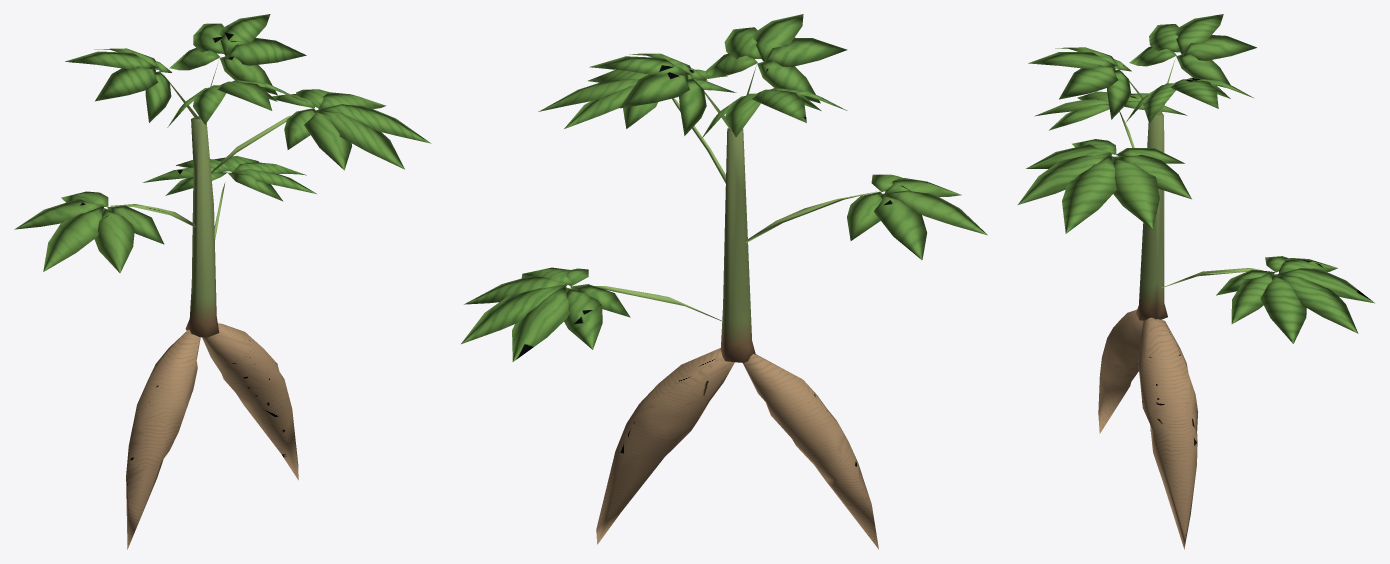
File: Yuca.fbx
3 renders of one model, left to right at view 1: azimuth 30°, elevation 25°; view 2: azimuth 150°, elevation 25°; view 3: azimuth 270°, elevation 25°, orthographic. The views are drawn at different scales.
Parts seen in each view (by area): view 1: Hojas_Yuca, Hojas_Yuca.001, Hojas_Yuca.002; view 2: Hojas_Yuca, Hojas_Yuca.002, Hojas_Yuca.001; view 3: Hojas_Yuca, Hojas_Yuca.002, Hojas_Yuca.001.
Part boxes in pixels (x1,y1,x2,y2): Hojas_Yuca: [14, 14, 431, 337]; Hojas_Yuca.001: [126, 329, 200, 549]; Hojas_Yuca.002: [202, 323, 298, 480]; Hojas_Yuca: [461, 14, 987, 362]; Hojas_Yuca.002: [596, 348, 734, 544]; Hojas_Yuca.001: [743, 354, 878, 549]; Hojas_Yuca: [1018, 14, 1374, 343]; Hojas_Yuca.002: [1138, 317, 1198, 549]; Hojas_Yuca.001: [1098, 309, 1143, 433].
Bounding box in the file's own units: 64.34 × 75.02 × 54.99.
4 materials, 4 textured.
